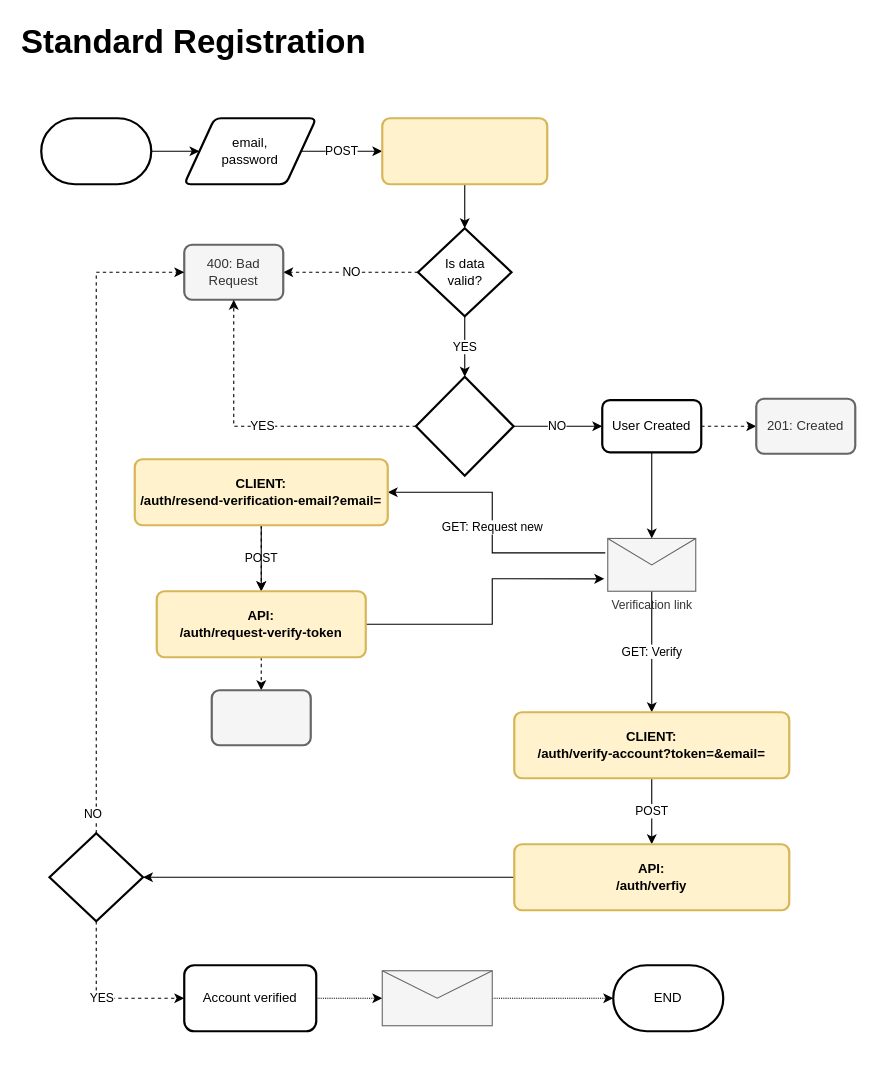
Image size: 875x1066. Some labels were removed from this diagram. The centre of each missing label's shape, as x and y in pixels:
"202: Accepted" belongs at point (260, 717).
"Account activated" belongs at point (436, 998).
"API: /auth/register" belongs at point (464, 151).
"CLIENT (React)" belongs at point (96, 151).
"Is token valid?" belongs at point (96, 877).
"User exists?" belongs at point (464, 425).
